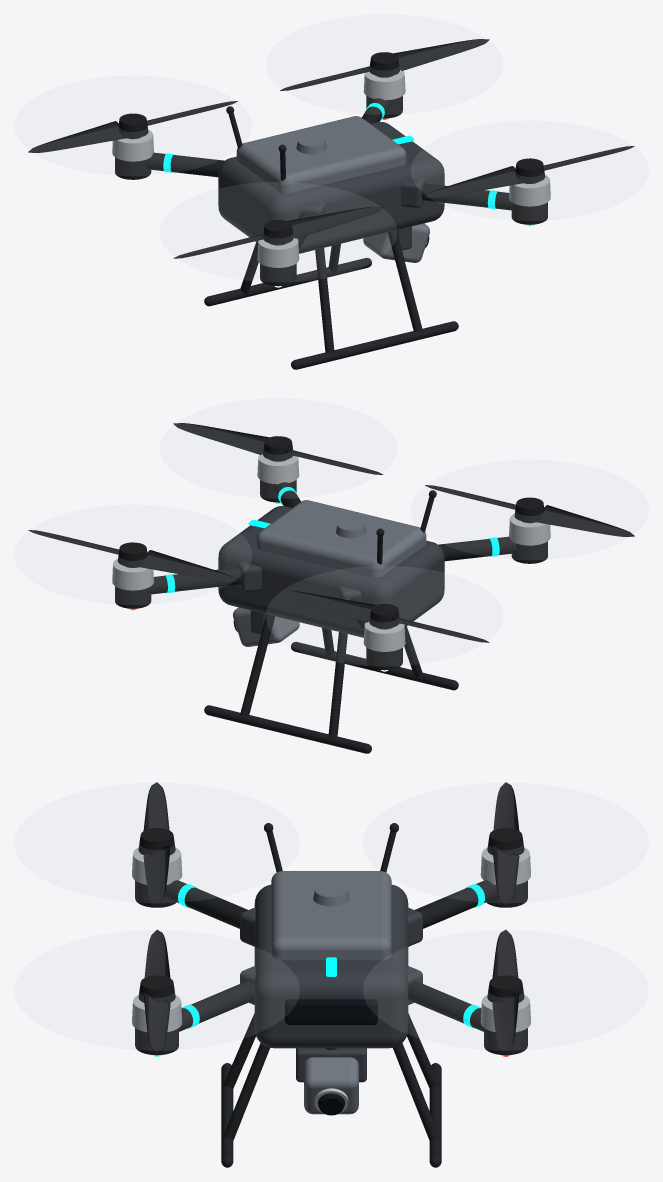
Rendered from drone.glb.
3 renders of one model, top to bottom at view 1: azimuth 30°, elevation 25°; view 2: azimuth 150°, elevation 25°; view 3: azimuth 270°, elevation 25°, orthographic. The views are drawn at different scales.
Parts seen in each view (by area): view 1: chassis, helice_avant_droite, helice_arriere_droite, helice_arriere_gauche, helice_avant_gauche; view 2: chassis, helice_avant_gauche, helice_arriere_droite, helice_arriere_gauche, helice_avant_droite; view 3: chassis, helice_arriere_droite, helice_arriere_gauche, helice_avant_droite, helice_avant_gauche.
Part boxes in pixels (bbox=[...]): chassis: bbox=[112, 69, 550, 369]; helice_avant_droite: bbox=[425, 146, 634, 197]; helice_arriere_droite: bbox=[173, 206, 383, 258]; helice_arriere_gauche: bbox=[28, 101, 237, 152]; helice_avant_gauche: bbox=[280, 39, 489, 90]; chassis: bbox=[112, 453, 550, 753]; helice_avant_gauche: bbox=[28, 530, 237, 581]; helice_arriere_droite: bbox=[425, 485, 634, 536]; helice_arriere_gauche: bbox=[279, 590, 489, 642]; helice_avant_droite: bbox=[173, 423, 382, 474]; chassis: bbox=[132, 823, 530, 1167]; helice_arriere_droite: bbox=[138, 782, 175, 905]; helice_arriere_gauche: bbox=[487, 782, 524, 905]; helice_avant_droite: bbox=[138, 929, 175, 1052]; helice_avant_gauche: bbox=[487, 929, 524, 1052].
Bounding box in the file's own units: 1.17 × 0.51 × 1.16.
